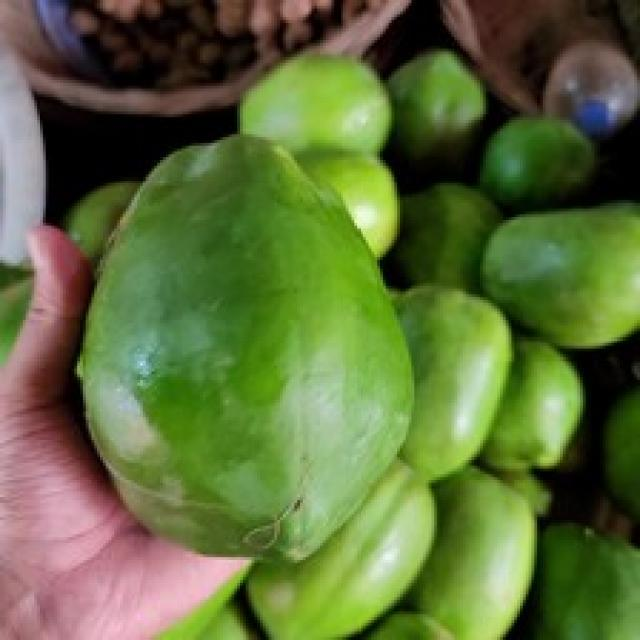Pepaya unrippen: (74, 125, 424, 563)
